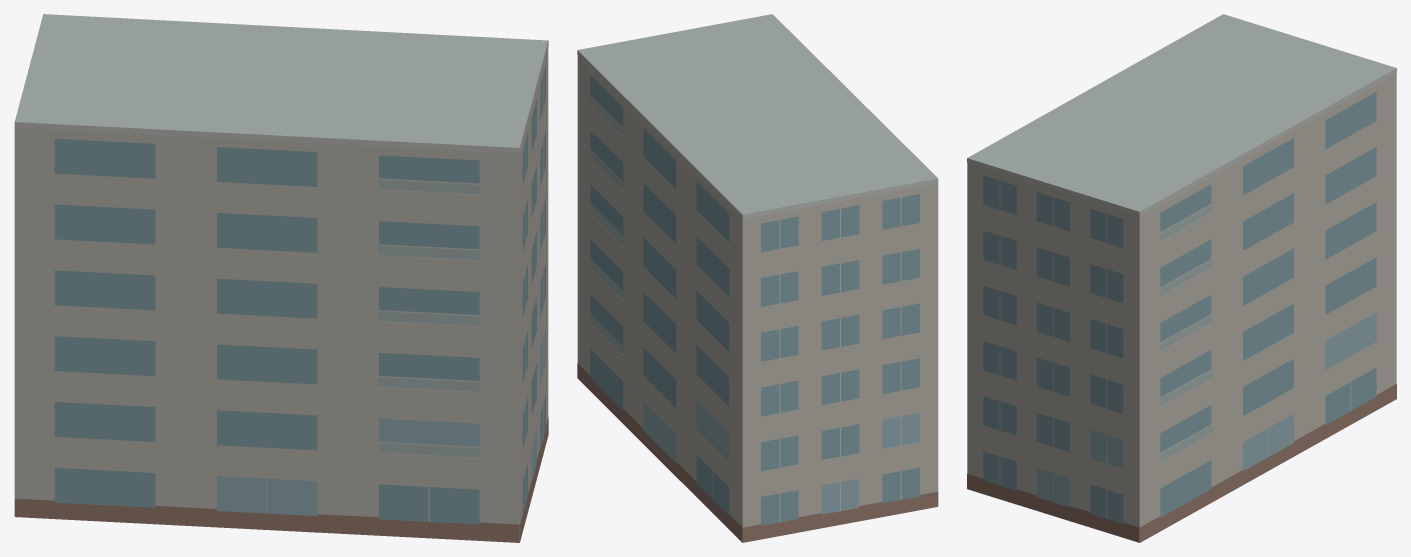
The model's file is survey-upis-32914768.glb.
The picture shows the model from 3 angles, left to right: view 1: azimuth 30°, elevation 25°; view 2: azimuth 150°, elevation 25°; view 3: azimuth 270°, elevation 25°; orthographic projection. The views are drawn at different scales.
Parts seen in each view (by area): view 1: survey-upis-32914768.tmp; view 2: survey-upis-32914768.tmp; view 3: survey-upis-32914768.tmp.
Boxes of the visible parts, bbox=[...] form: survey-upis-32914768.tmp: bbox=[14, 14, 548, 542]; survey-upis-32914768.tmp: bbox=[577, 14, 938, 542]; survey-upis-32914768.tmp: bbox=[967, 14, 1396, 542].
Size of the model in its own units: 21.29 by 16.6 by 19.54.
